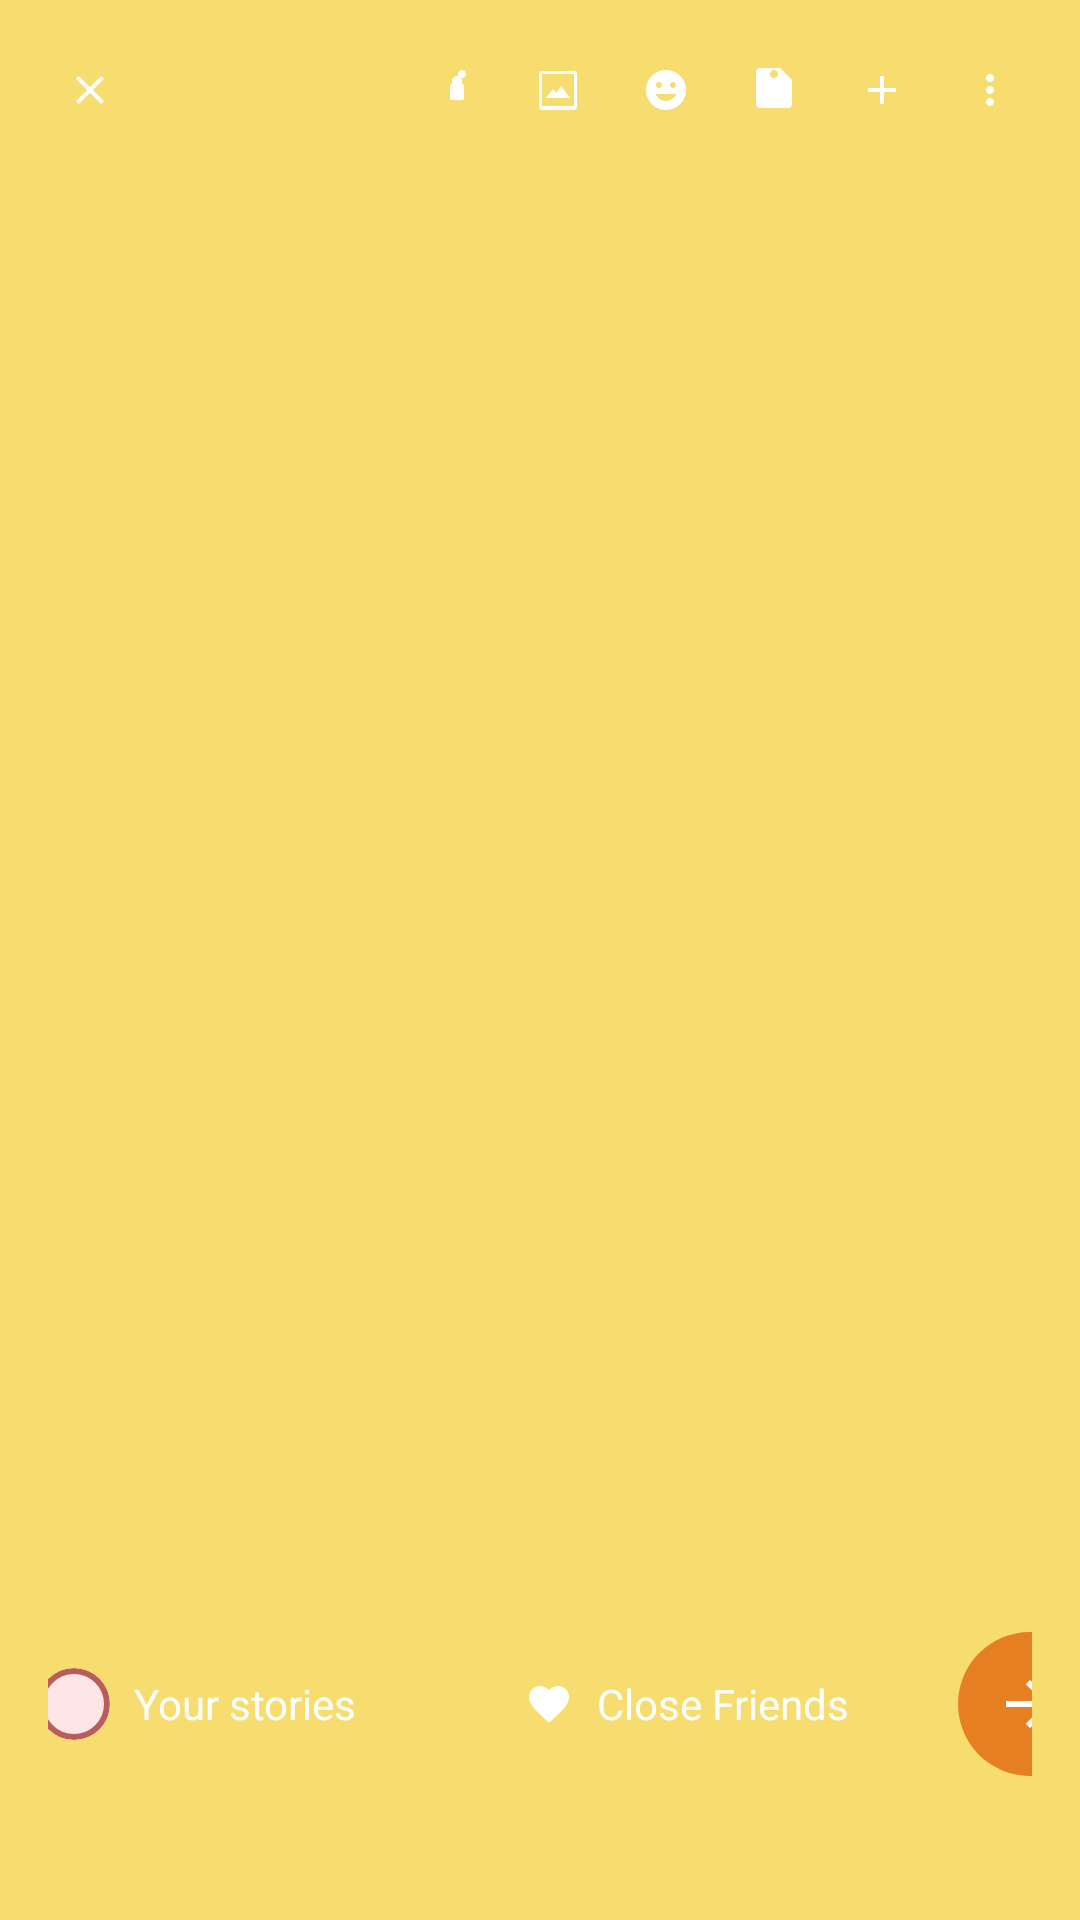

Where icons sit on this 1080w x 1920h app screen, as (x1, y1, x2, y2):
close: (76, 76, 104, 104)
effects plus: (868, 76, 896, 104)
more dots: (986, 74, 994, 106)
